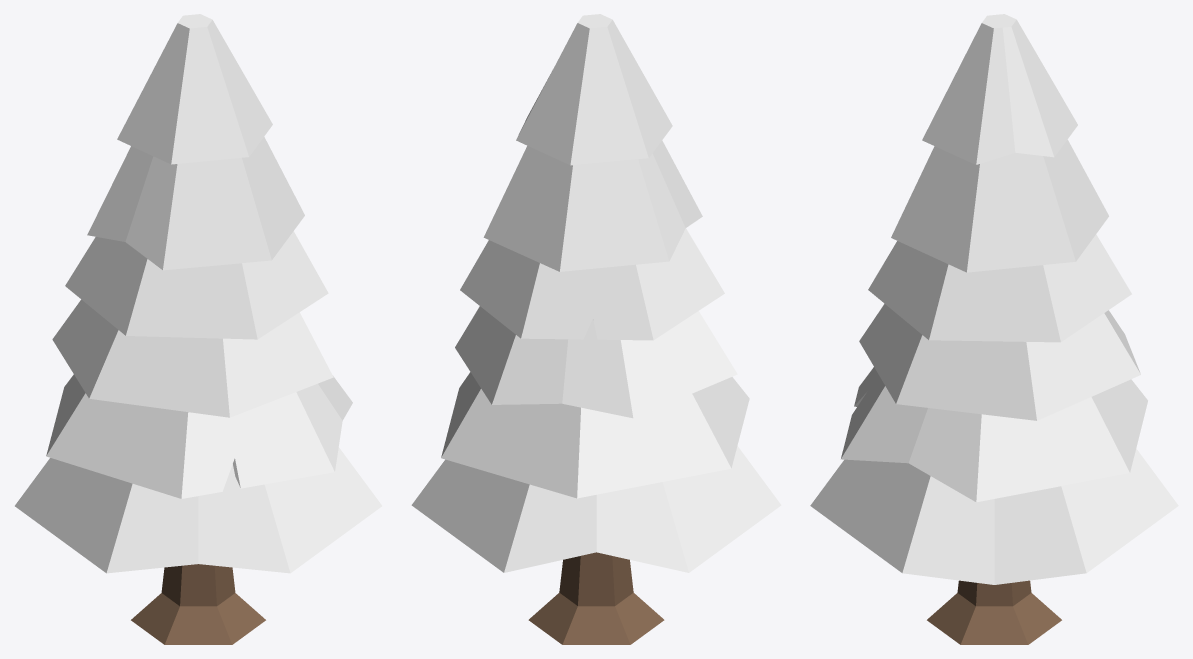
The model's file is tree 6.fbx.
The picture shows the model from 3 angles, left to right: view 1: azimuth 30°, elevation 25°; view 2: azimuth 150°, elevation 25°; view 3: azimuth 270°, elevation 25°; orthographic projection.
Parts seen in each view (by area): view 1: Tree 6; view 2: Tree 6; view 3: Tree 6.
Part boxes in pixels (<box>): Tree 6: <box>15,14,381,644</box>; Tree 6: <box>411,14,781,644</box>; Tree 6: <box>810,14,1178,644</box>.
Size of the model in its own units: 215 by 425 by 237.
Materials: 1 (1 with a texture image).
